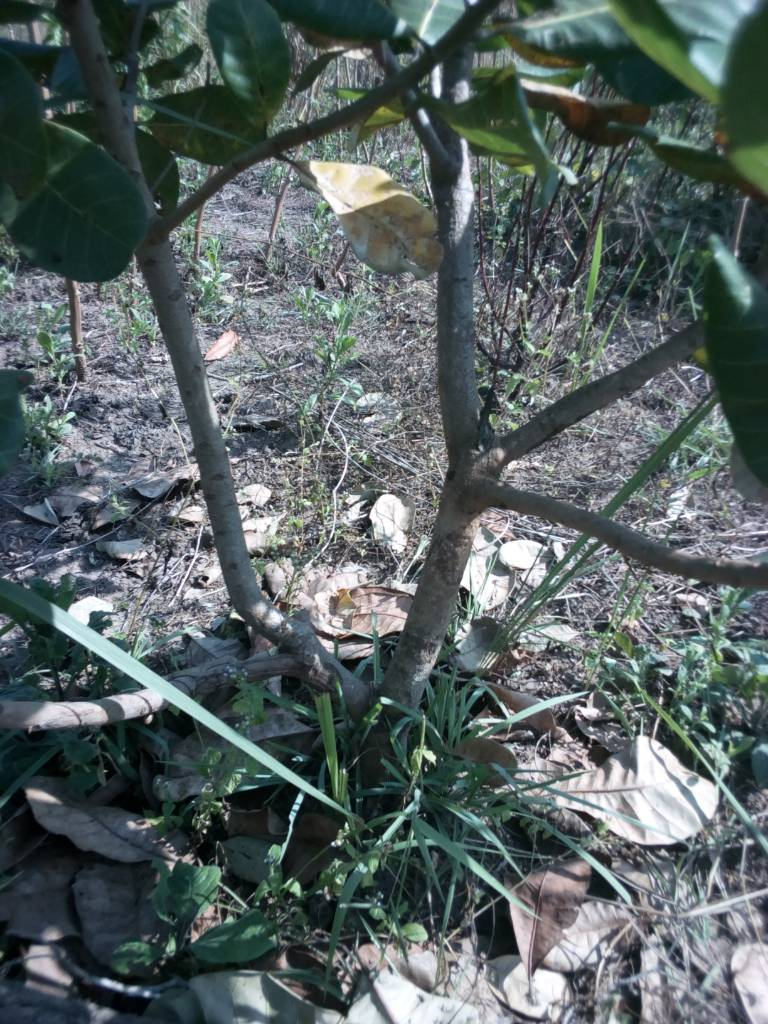Anthracnose: (307, 157, 449, 283)
